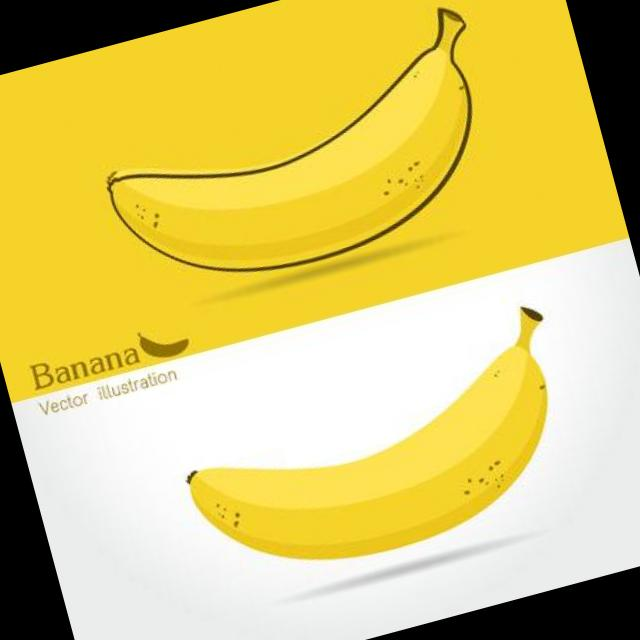banana: (160, 337, 598, 614), (88, 41, 520, 316)
